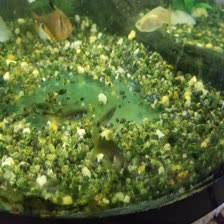Guppy: (89, 134, 134, 173), (131, 2, 174, 37), (39, 104, 92, 123), (90, 103, 120, 131)
Transparente: (26, 3, 78, 42)
